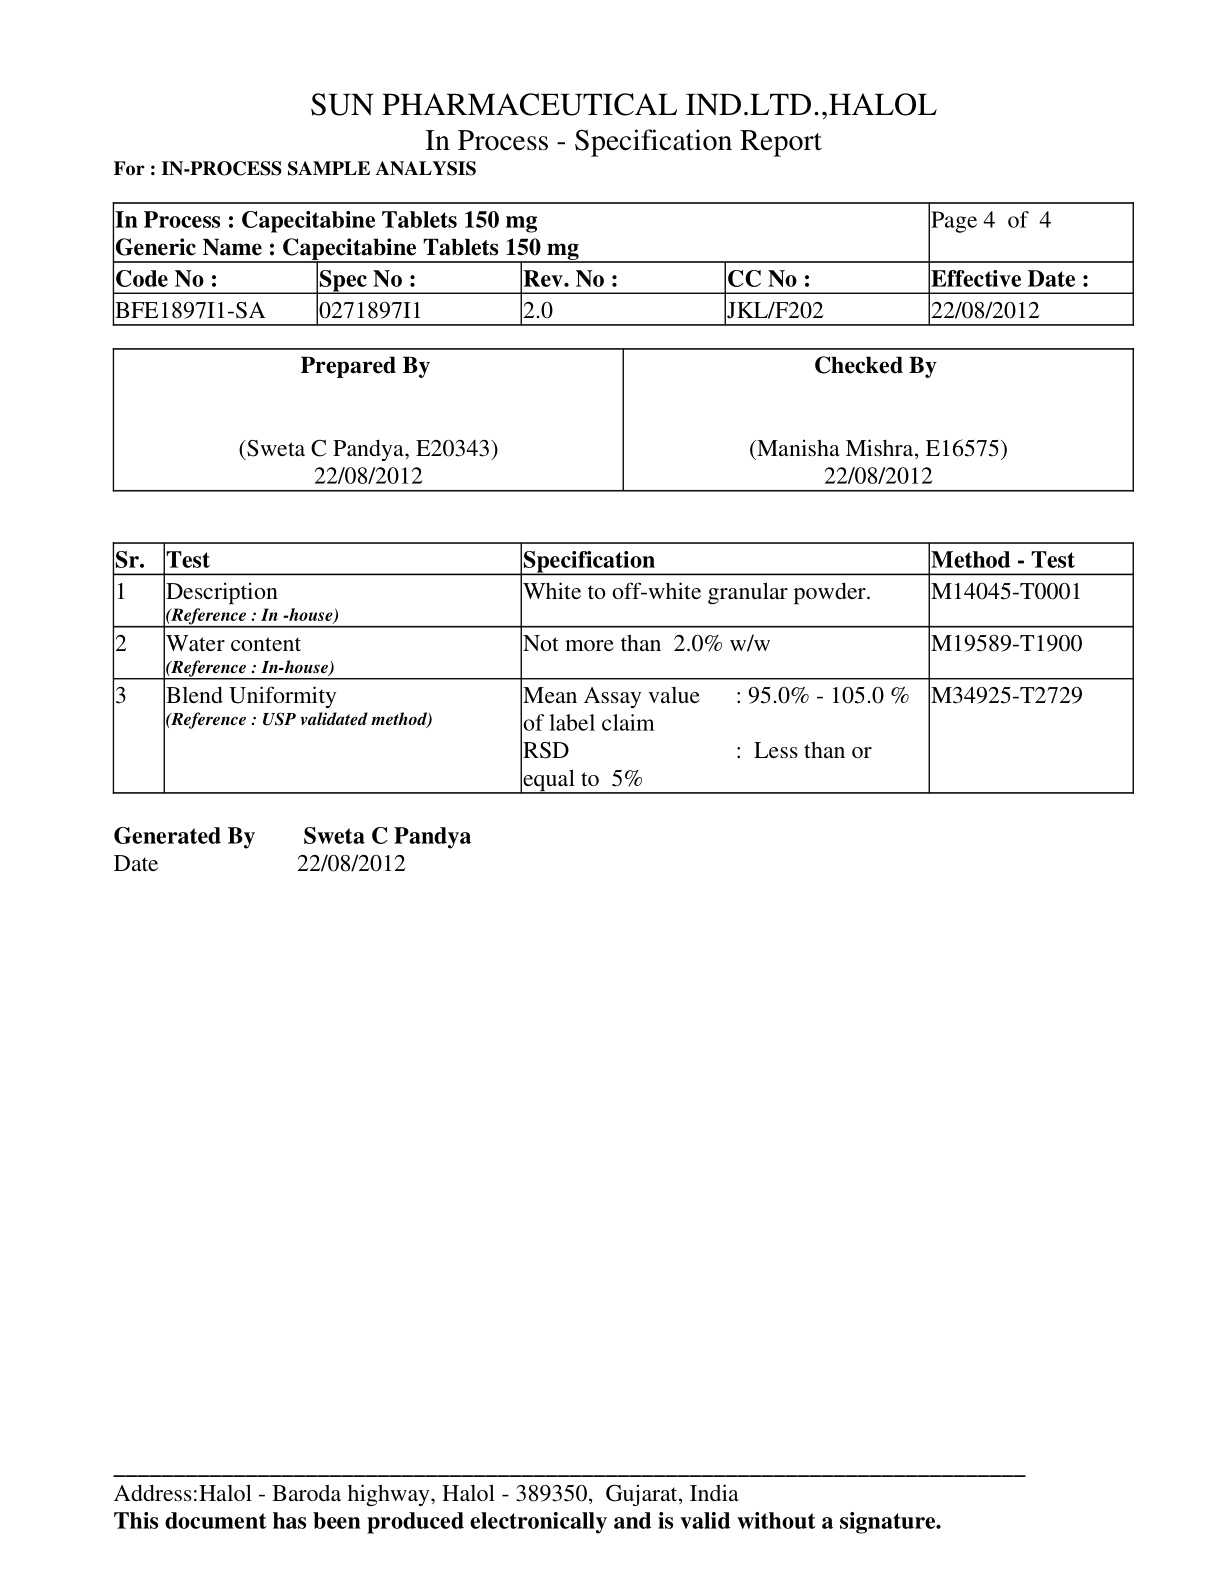full_lined: (112, 541, 1135, 795), (112, 347, 1135, 492)
merged_cells: (112, 202, 1135, 327)
